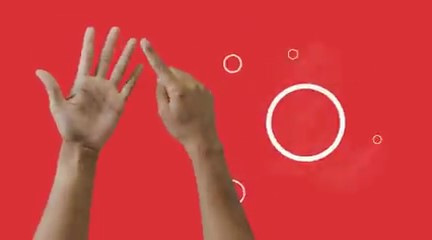O: (21, 20, 215, 165)
